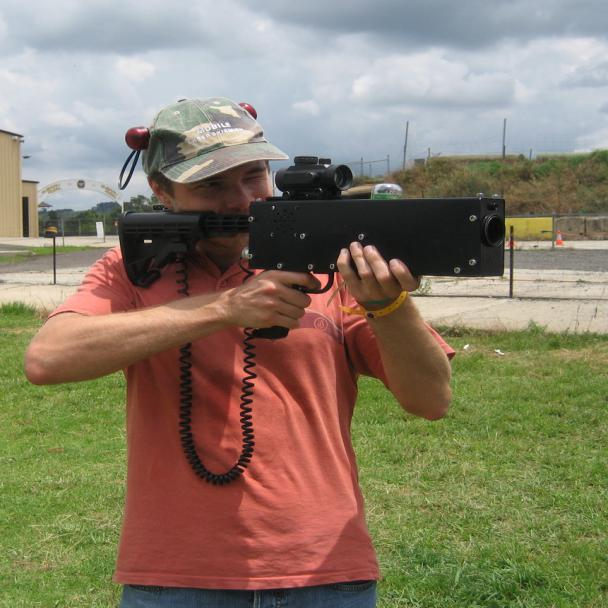Gun: (123, 150, 522, 302)
Hand: (21, 263, 321, 395), (324, 242, 461, 402)
